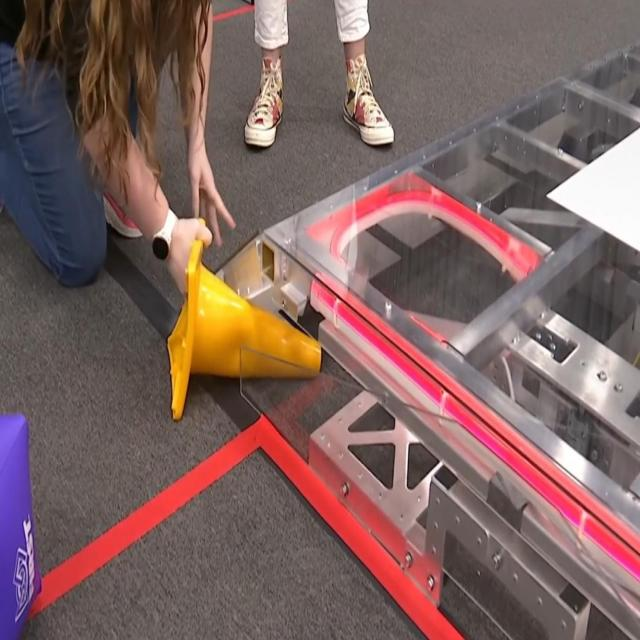frc_cone: (167, 240, 321, 426)
frc_cube: (0, 409, 43, 640)
